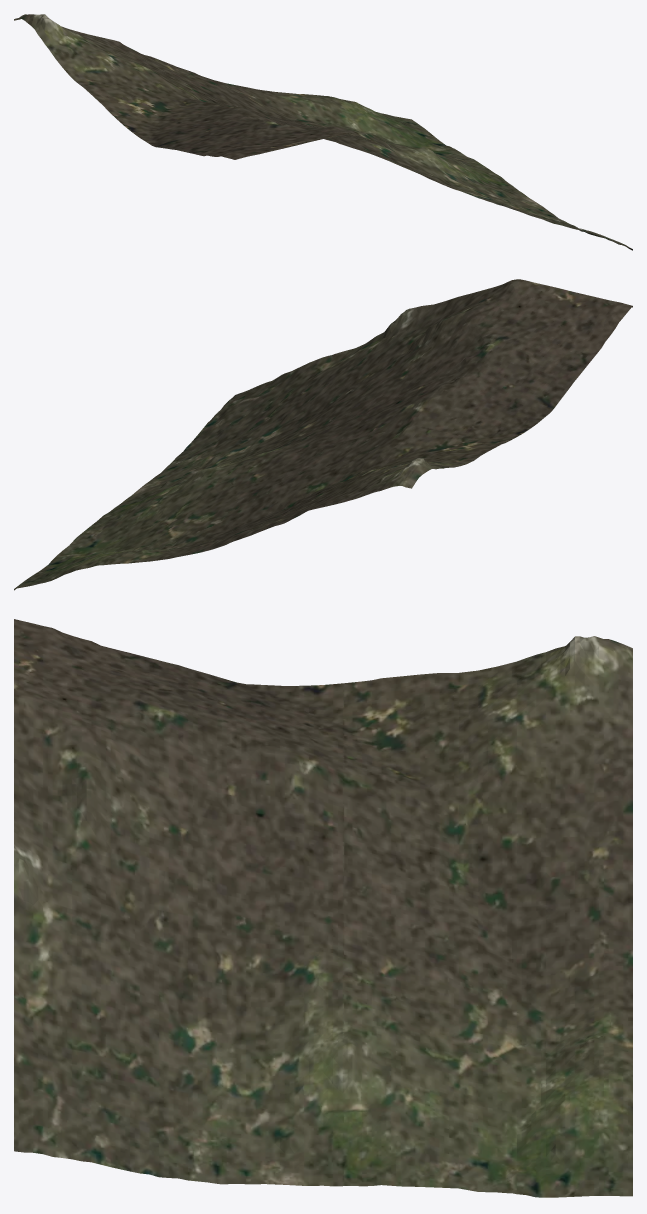
3 renders of one model, top to bottom at view 1: azimuth 30°, elevation 25°; view 2: azimuth 150°, elevation 25°; view 3: azimuth 270°, elevation 25°, orthographic. The views are drawn at different scales.
Bounding box in the file's own units: 250 × 133 × 241.
1 material, 1 textured.
